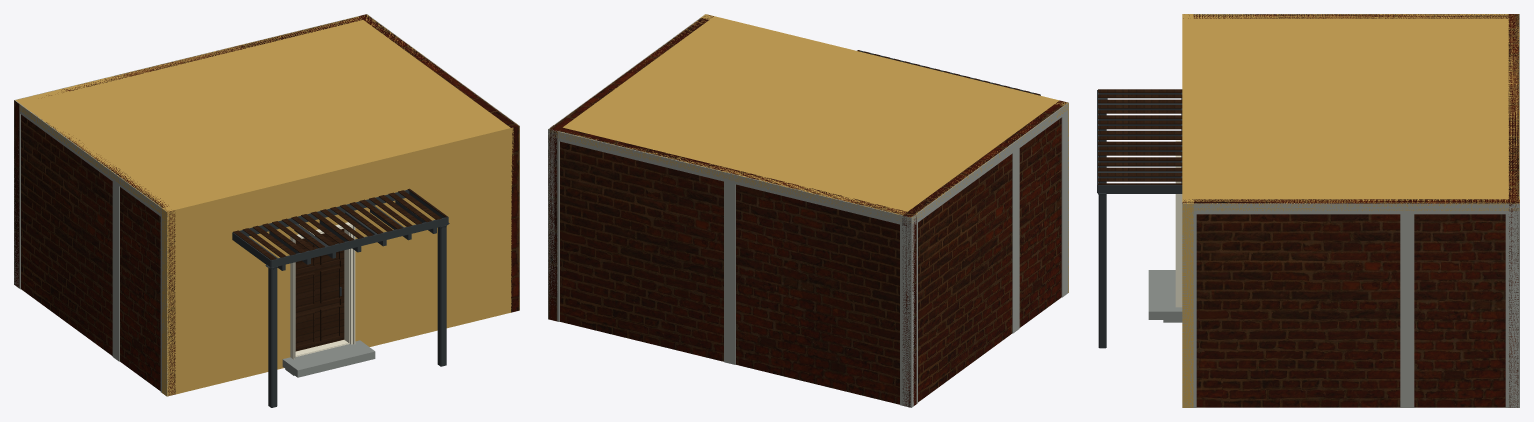
File: building.glb
3 views of the same model, side by side, from view 1: azimuth 30°, elevation 25°; view 2: azimuth 150°, elevation 25°; view 3: azimuth 270°, elevation 25° (orthographic). The views are drawn at different scales.
Visible parts, largest first — view 1: roof/house:0/roof_slab#0001, house:0/edge0/z0/house:0/edge0/z0/wall_0_0, house:0/edge3/z0/house:0/edge3/z0/wall_0_0, house:0/edge1/z0/house:0/edge1/z0/wall_0_0, house:0/edge2/z0/house:0/edge2/z0/wall_0_0, site/entrance/0/entrance_step#0002, roof_assembly/marquesina/roof_fascia#0002, house:0/edge3/z0/house:0/edge3/z0/beam_0_0, house:0/edge3/z0/house:0/edge3/z0/column_2_0, roof_assembly/marquesina/member_shaft#0001, roof_assembly/marquesina/member_shaft#0002, house:0/edge0/z0/opening_u2.80_v0.12/door_panel_back#0001 (+10 smaller); view 2: house:0/edge2/z0/house:0/edge2/z0/wall_0_0, roof/house:0/roof_slab#0001, house:0/edge3/z0/house:0/edge3/z0/wall_0_0, house:0/edge2/z0/house:0/edge2/z0/beam_0_0, house:0/edge1/z0/house:0/edge1/z0/wall_0_0, house:0/edge0/z0/house:0/edge0/z0/wall_0_0, house:0/edge2/z0/house:0/edge2/z0/column_2_0, house:0/edge2/z0/house:0/edge2/z0/column_1_0, house:0/edge3/z0/house:0/edge3/z0/beam_0_0, house:0/edge2/z0/house:0/edge2/z0/column_0_0, house:0/edge3/z0/house:0/edge3/z0/column_2_0, house:0/edge3/z0/house:0/edge3/z0/column_1_0 (+1 smaller); view 3: roof/house:0/roof_slab#0001, house:0/edge1/z0/house:0/edge1/z0/wall_0_0, house:0/edge0/z0/house:0/edge0/z0/wall_0_0, house:0/edge1/z0/house:0/edge1/z0/beam_0_0, house:0/edge1/z0/house:0/edge1/z0/column_1_0, house:0/edge1/z0/house:0/edge1/z0/column_2_0, house:0/edge2/z0/house:0/edge2/z0/wall_0_0, house:0/edge1/z0/house:0/edge1/z0/column_0_0, house:0/edge3/z0/house:0/edge3/z0/wall_0_0, site/entrance/0/entrance_step#0002, roof_assembly/marquesina/member_shaft#0001, house:0/edge0/z0/opening_u2.80_v0.12/door_moulding#0028 (+8 smaller).
Part boxes in pixels (left/top/right/bottom): roof/house:0/roof_slab#0001: left=15, top=15, right=511, bottom=217; house:0/edge0/z0/house:0/edge0/z0/wall_0_0: left=162, top=123, right=519, bottom=396; house:0/edge3/z0/house:0/edge3/z0/wall_0_0: left=21, top=114, right=175, bottom=395; house:0/edge1/z0/house:0/edge1/z0/wall_0_0: left=359, top=14, right=519, bottom=312; house:0/edge2/z0/house:0/edge2/z0/wall_0_0: left=14, top=16, right=370, bottom=287; site/entrance/0/entrance_step#0002: left=282, top=340, right=375, bottom=377; roof_assembly/marquesina/roof_fascia#0002: left=271, top=217, right=448, bottom=267; house:0/edge3/z0/house:0/edge3/z0/beam_0_0: left=14, top=100, right=167, bottom=220; house:0/edge3/z0/house:0/edge3/z0/column_2_0: left=112, top=182, right=119, bottom=361; roof_assembly/marquesina/member_shaft#0001: left=437, top=227, right=446, bottom=366; roof_assembly/marquesina/member_shaft#0002: left=268, top=268, right=277, bottom=407; house:0/edge0/z0/opening_u2.80_v0.12/door_panel_back#0001: left=295, top=236, right=339, bottom=341; house:0/edge2/z0/house:0/edge2/z0/wall_0_0: left=550, top=125, right=916, bottom=405; roof/house:0/roof_slab#0001: left=549, top=15, right=1068, bottom=222; house:0/edge3/z0/house:0/edge3/z0/wall_0_0: left=902, top=100, right=1067, bottom=407; house:0/edge2/z0/house:0/edge2/z0/beam_0_0: left=548, top=129, right=911, bottom=227; house:0/edge1/z0/house:0/edge1/z0/wall_0_0: left=548, top=15, right=713, bottom=321; house:0/edge0/z0/house:0/edge0/z0/wall_0_0: left=700, top=14, right=1068, bottom=292; house:0/edge2/z0/house:0/edge2/z0/column_2_0: left=724, top=181, right=735, bottom=364; house:0/edge2/z0/house:0/edge2/z0/column_1_0: left=900, top=224, right=911, bottom=407; house:0/edge3/z0/house:0/edge3/z0/beam_0_0: left=910, top=102, right=1068, bottom=226; house:0/edge2/z0/house:0/edge2/z0/column_0_0: left=548, top=139, right=559, bottom=321; house:0/edge3/z0/house:0/edge3/z0/column_2_0: left=1012, top=148, right=1019, bottom=333; house:0/edge3/z0/house:0/edge3/z0/column_1_0: left=1061, top=112, right=1068, bottom=297; roof/house:0/roof_slab#0001: left=1182, top=14, right=1519, bottom=211; house:0/edge1/z0/house:0/edge1/z0/wall_0_0: left=1182, top=199, right=1519, bottom=407; house:0/edge0/z0/house:0/edge0/z0/wall_0_0: left=1182, top=14, right=1193, bottom=407; house:0/edge1/z0/house:0/edge1/z0/beam_0_0: left=1182, top=203, right=1519, bottom=214; house:0/edge1/z0/house:0/edge1/z0/column_1_0: left=1505, top=214, right=1519, bottom=407; house:0/edge1/z0/house:0/edge1/z0/column_2_0: left=1400, top=214, right=1414, bottom=407; house:0/edge2/z0/house:0/edge2/z0/wall_0_0: left=1508, top=14, right=1518, bottom=407; house:0/edge1/z0/house:0/edge1/z0/column_0_0: left=1182, top=214, right=1196, bottom=407; house:0/edge3/z0/house:0/edge3/z0/wall_0_0: left=1183, top=14, right=1508, bottom=18; site/entrance/0/entrance_step#0002: left=1148, top=270, right=1182, bottom=319; roof_assembly/marquesina/member_shaft#0001: left=1098, top=195, right=1106, bottom=348; house:0/edge0/z0/opening_u2.80_v0.12/door_moulding#0028: left=1175, top=140, right=1182, bottom=307.
Size of the model in its own units: 8 by 4.04 by 7.52.
7 materials, 2 textured.
